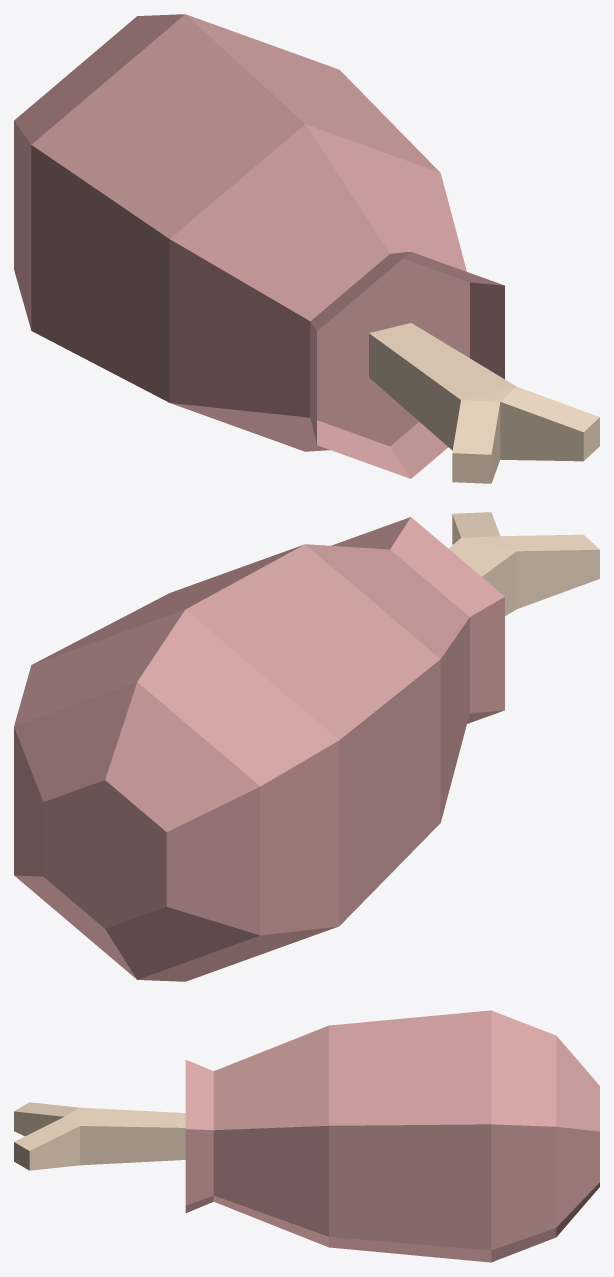
Rendered from undercooked-chicken.fbx.
The picture shows the model from 3 angles, top to bottom: view 1: azimuth 30°, elevation 25°; view 2: azimuth 150°, elevation 25°; view 3: azimuth 270°, elevation 25°; orthographic projection. The views are drawn at different scales.
Visible parts, largest first — view 1: mergedBlocks; view 2: mergedBlocks; view 3: mergedBlocks.
Part boxes in pixels (<box>): mergedBlocks: <box>14,14,599,483</box>; mergedBlocks: <box>14,512,599,981</box>; mergedBlocks: <box>14,1010,599,1262</box>.
Bounding box in the file's own units: 3.41 × 3.94 × 8.29.
